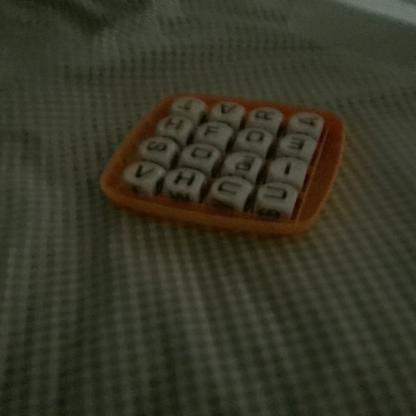a: (293, 111, 324, 132), (215, 99, 242, 119)
d: (186, 145, 218, 164)
e: (285, 134, 312, 156)
f: (200, 121, 226, 140)
h: (173, 169, 203, 190), (174, 96, 202, 114), (162, 115, 188, 134)
i: (276, 158, 301, 180)
o: (240, 128, 270, 149)
qu: (231, 153, 260, 175)
r: (253, 107, 282, 126)
s: (142, 137, 174, 157)
u: (261, 182, 293, 207), (215, 176, 246, 201)
v: (127, 162, 161, 183)
